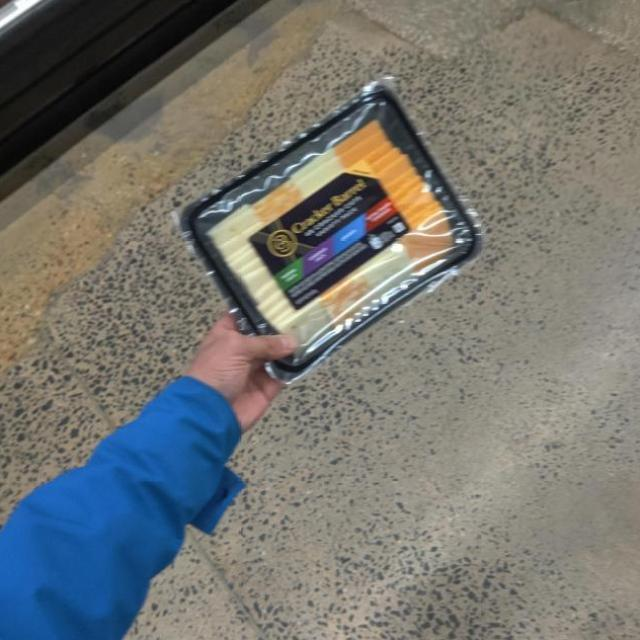Cheese: (167, 72, 504, 398)
